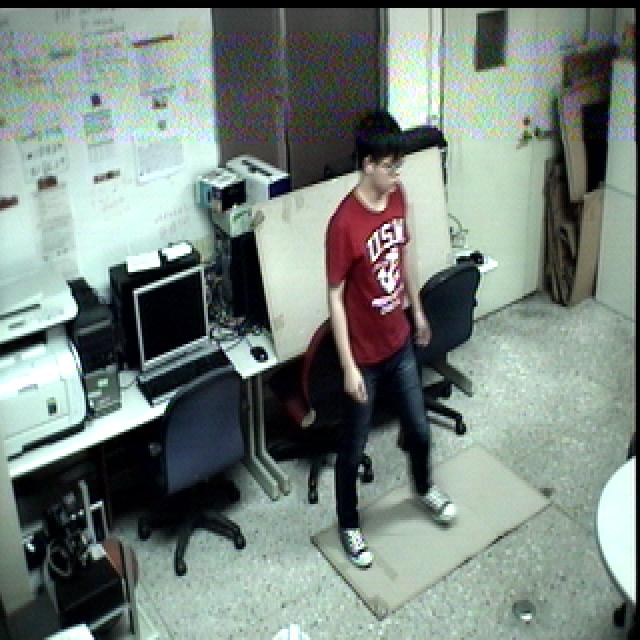stand: (312, 107, 483, 576)
